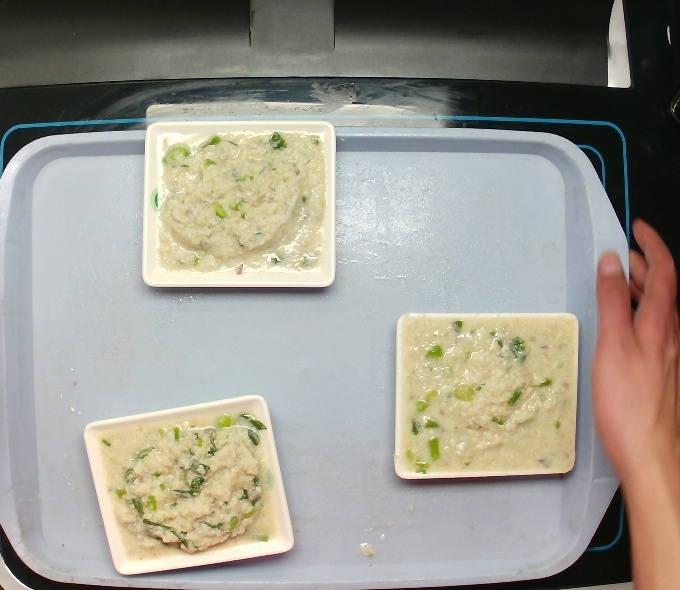wcq-QinCaiDouFuZha: (393, 305, 581, 493), (91, 406, 284, 573), (147, 121, 327, 279)
